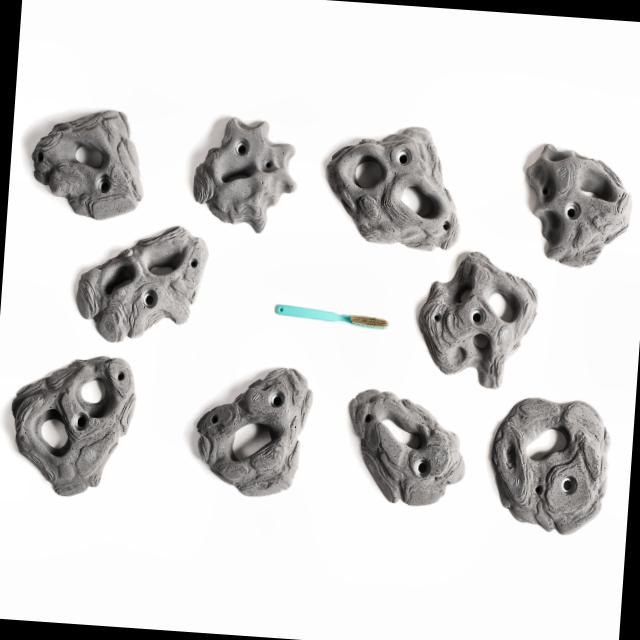Hold: (316, 122, 468, 250), (5, 357, 142, 498), (416, 246, 539, 394), (188, 364, 317, 501), (490, 398, 610, 534), (341, 387, 468, 510), (85, 224, 213, 346), (516, 138, 631, 268), (28, 108, 150, 214), (191, 112, 297, 232)
